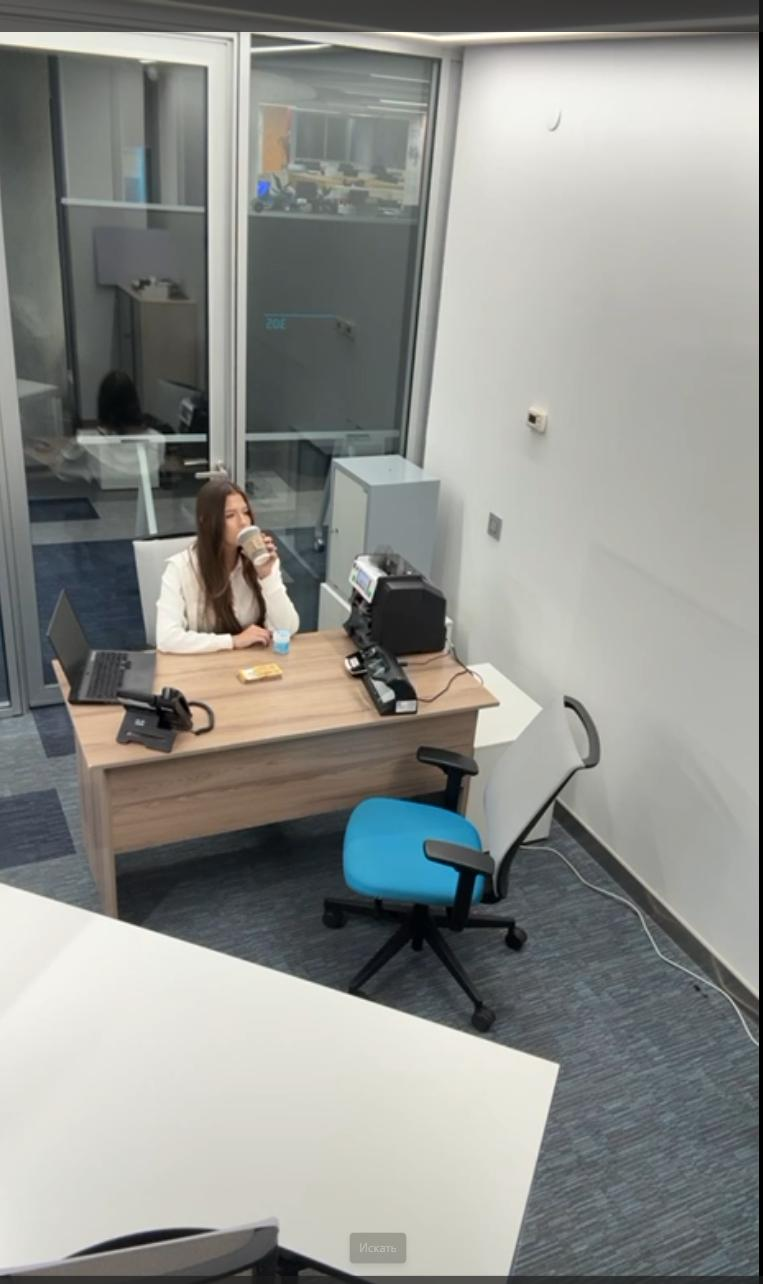cash_stack: (239, 660, 286, 689)
counter: (341, 551, 452, 658)
key_in: (329, 518, 349, 551)
uv_lamp: (346, 653, 418, 721)
